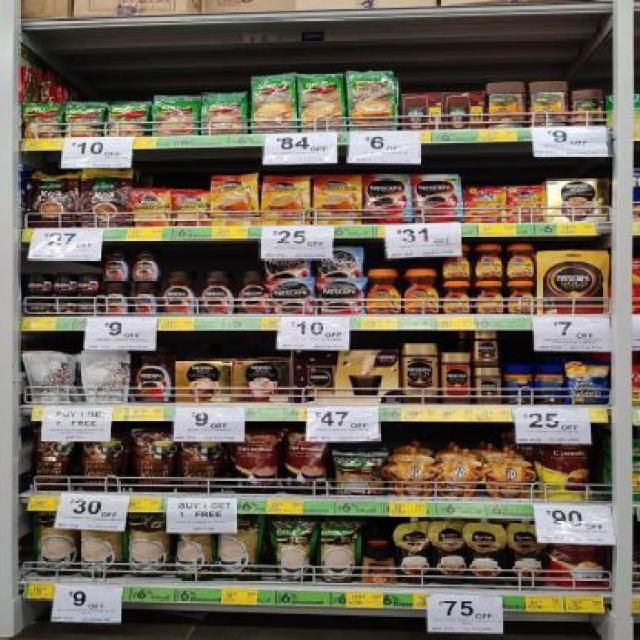Coffee: (411, 175, 463, 223), (364, 175, 412, 223), (211, 176, 259, 224), (261, 177, 309, 225), (315, 176, 362, 225), (133, 349, 173, 402), (404, 345, 438, 404), (162, 272, 198, 314), (366, 269, 400, 313), (199, 273, 236, 313), (405, 269, 438, 313), (238, 272, 270, 314), (320, 247, 363, 278), (321, 280, 362, 312), (173, 191, 209, 227), (274, 283, 315, 312), (135, 191, 168, 225), (473, 244, 504, 280), (506, 280, 537, 313), (507, 244, 536, 278), (444, 280, 473, 313), (475, 368, 501, 404), (443, 245, 470, 279), (477, 280, 504, 312), (131, 249, 158, 279), (473, 331, 496, 365), (133, 283, 159, 312), (104, 283, 130, 312), (106, 252, 129, 281), (27, 272, 50, 294), (77, 272, 101, 293), (55, 273, 78, 293), (56, 295, 78, 314), (29, 294, 51, 312), (82, 294, 100, 312)
